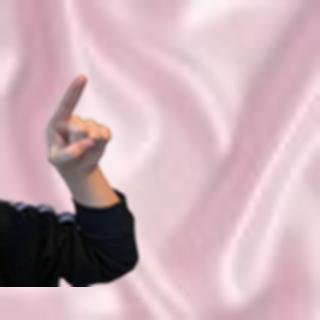IRRITATED: (40, 70, 115, 174)
